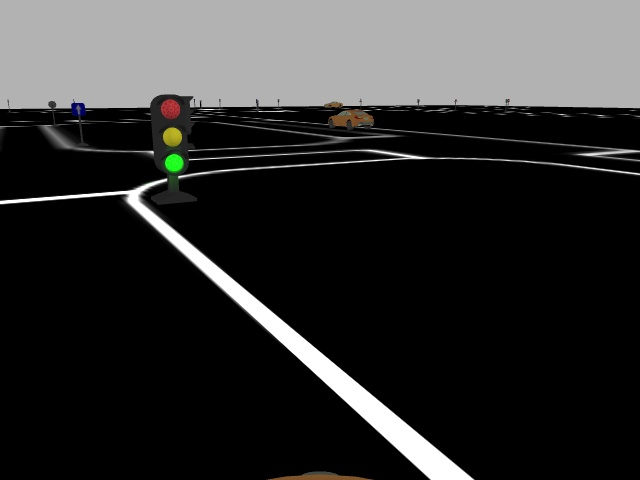green_light: (150, 91, 190, 180)
oneway: (69, 102, 86, 117)
